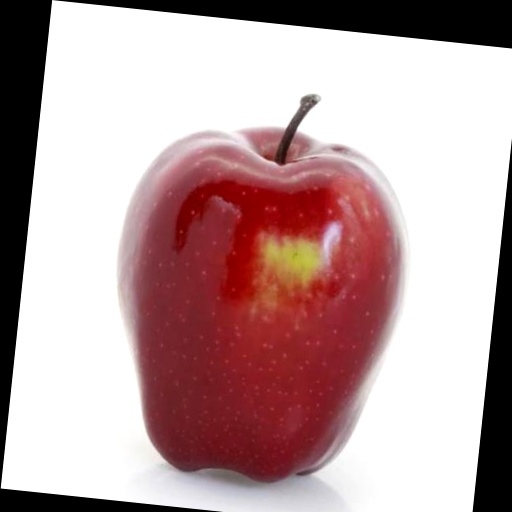fruit: (118, 95, 407, 481)
